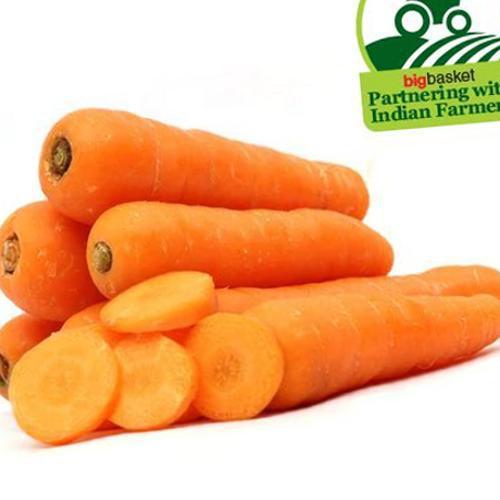carrot: (0, 200, 500, 439), (31, 108, 386, 231)
